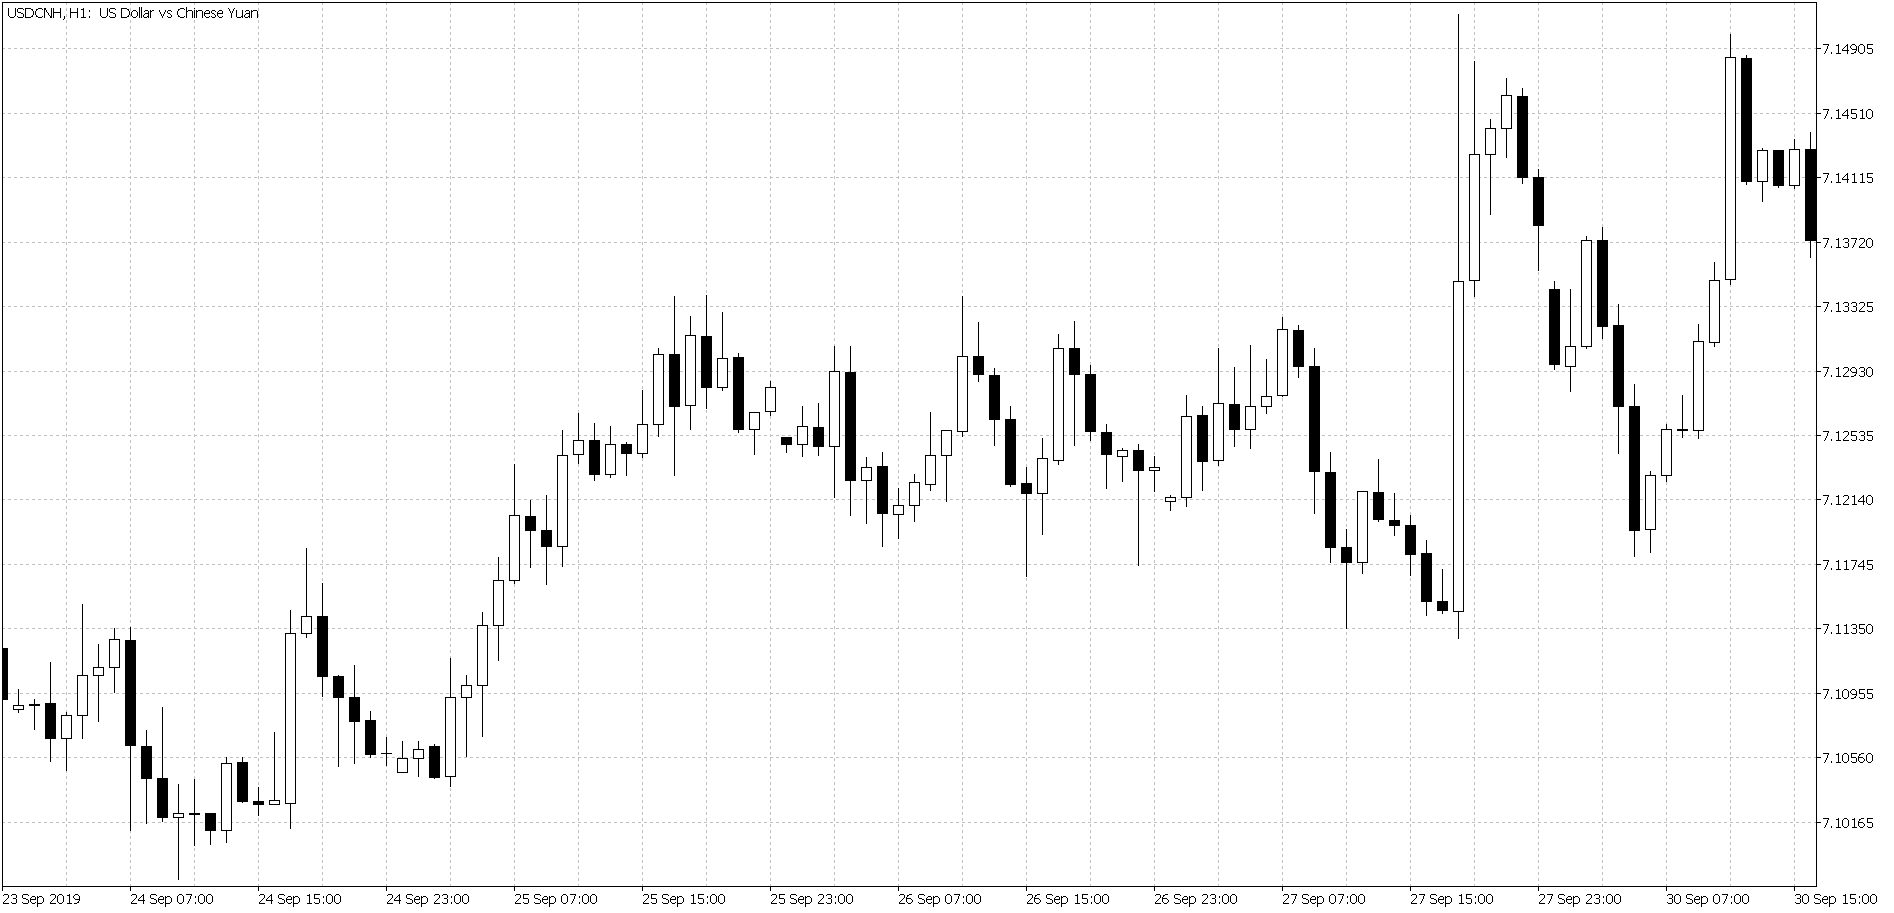3blackcrows: (1067, 300, 1112, 501)
bullishEngulfing: (424, 658, 459, 785)
morningStar: (1003, 395, 1047, 569)
